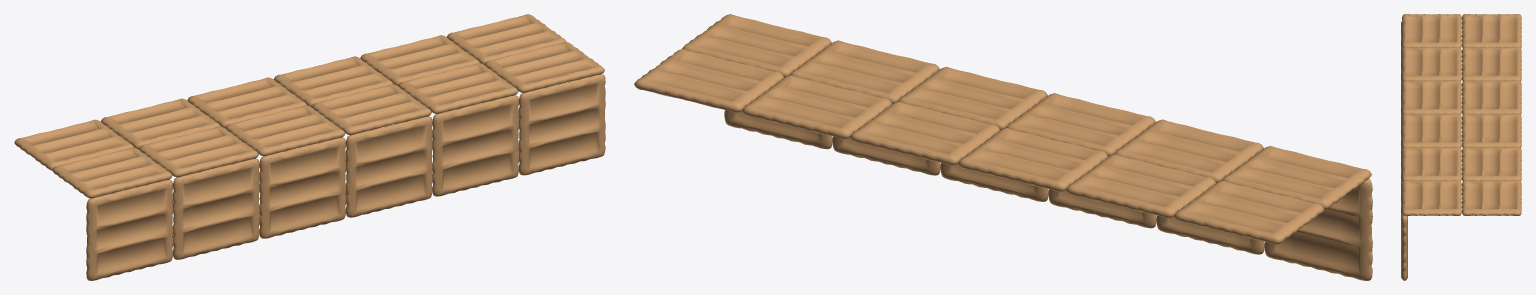
The model's file is cookie_respawn.fbx.
The picture shows the model from 3 angles, left to right: view 1: azimuth 30°, elevation 25°; view 2: azimuth 150°, elevation 25°; view 3: azimuth 270°, elevation 25°; orthographic projection. The views are drawn at different scales.
Visible parts, largest first — view 1: 平面.011; view 2: 平面.011; view 3: 平面.011.
Boxes of the visible parts, box(x1,y1,x2,y2) form: 平面.011: box(14, 14, 605, 280); 平面.011: box(634, 14, 1372, 280); 平面.011: box(1401, 14, 1521, 280).
Size of the model in its own units: 171 by 28.39 by 43.78.
